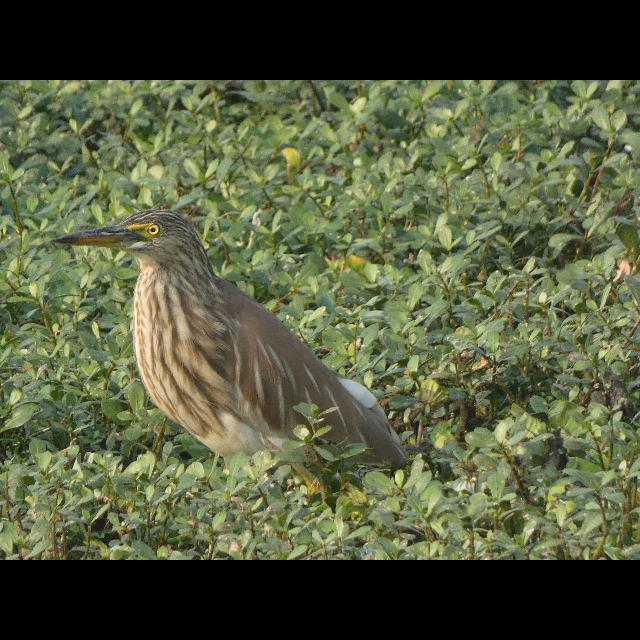heron: (44, 203, 426, 497)
